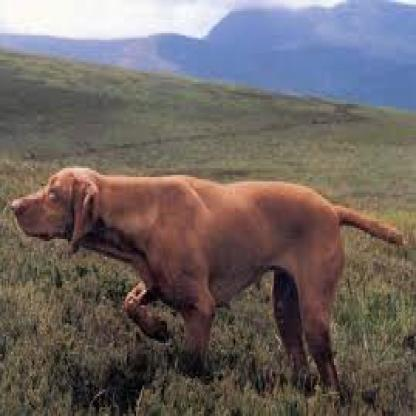Hungarian Vizsla: (6, 158, 406, 397)
